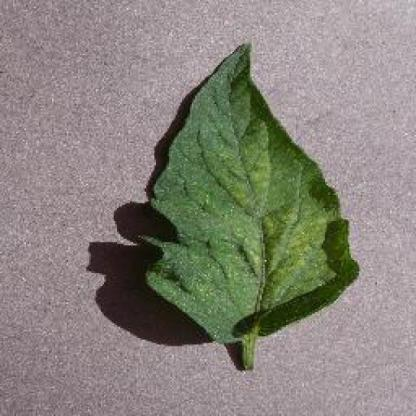Tomato_Spider_Mites: (144, 43, 348, 341)
